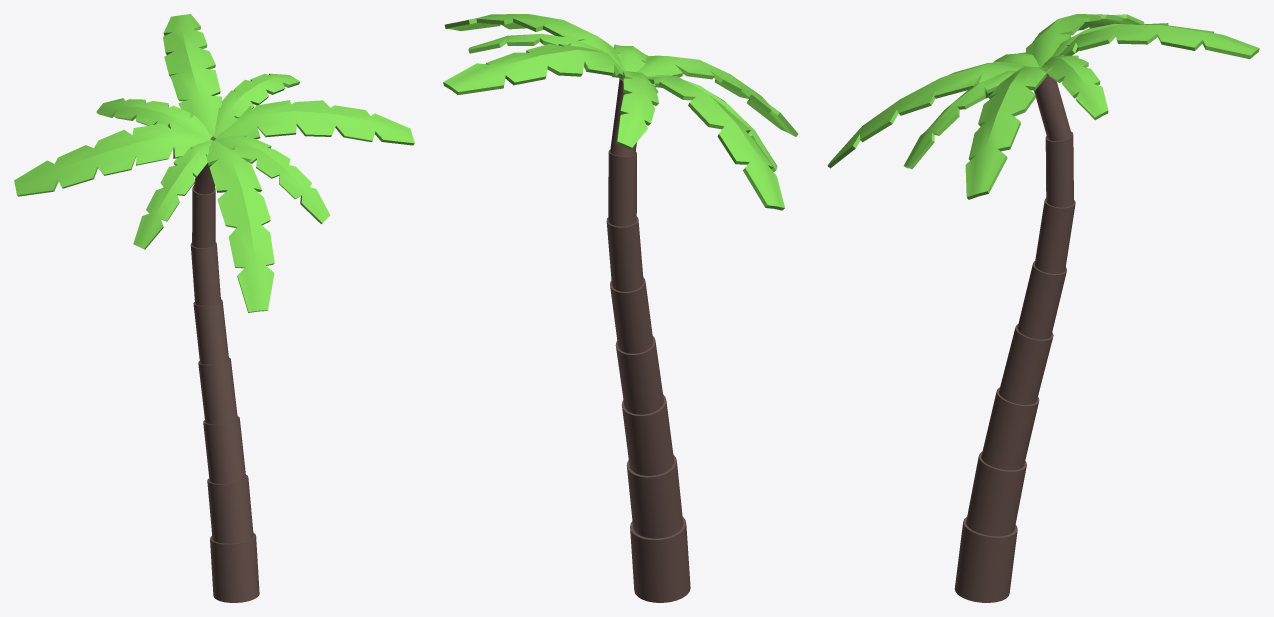
Rendered from palmTree.glb.
3 views of the same model, side by side, from view 1: azimuth 30°, elevation 25°; view 2: azimuth 150°, elevation 25°; view 3: azimuth 270°, elevation 25° (orthographic). The views are drawn at different scales.
Visible parts, largest first — view 1: Plane, Cylinder; view 2: Cylinder, Plane; view 3: Cylinder, Plane.
Boxes of the visible parts, x1,y1,x2,y2 form: Plane: (14, 14, 414, 312); Cylinder: (190, 136, 259, 602); Cylinder: (606, 79, 690, 602); Plane: (443, 14, 798, 210); Cylinder: (954, 74, 1075, 602); Plane: (827, 14, 1259, 199).
Bounding box in the file's own units: 16.78 × 23.34 × 15.67.
